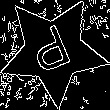P_SE: (27, 20, 80, 81)
